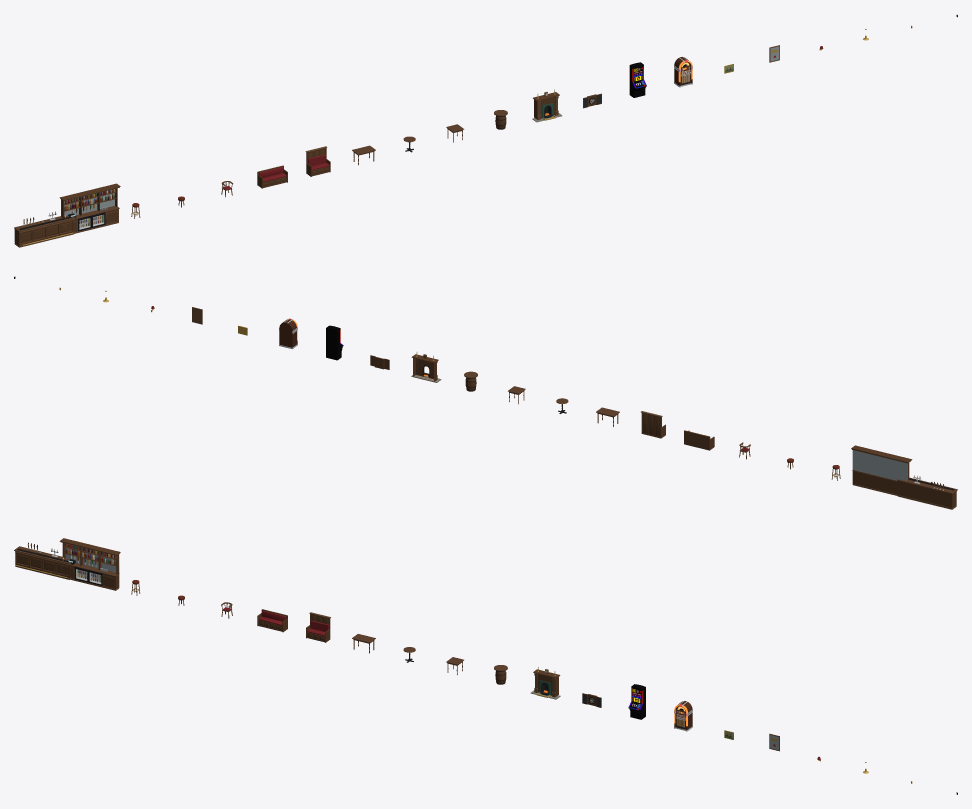
Rendered from Pub.glb.
3 views of the same model, one above another, from view 1: azimuth 30°, elevation 25°; view 2: azimuth 150°, elevation 25°; view 3: azimuth 330°, elevation 25° (orthographic).
Visible parts, largest first — view 1: BackBar, Bar, Fireplace, BoothBench, Settle, FruitMachine, Jukebox; view 2: BackBar, Bar, Fireplace, BoothBench, FruitMachine, Jukebox; view 3: BackBar, Bar, Fireplace, BoothBench.
Part boxes in pixels (left/top/right/bottom): BackBar: left=59, top=183, right=120, bottom=233; Bar: left=14, top=211, right=74, bottom=247; Fireplace: left=532, top=89, right=562, bottom=122; BoothBench: left=305, top=146, right=330, bottom=176; Settle: left=257, top=165, right=287, bottom=188; FruitMachine: left=629, top=62, right=646, bottom=97; Jukebox: left=674, top=56, right=692, bottom=87; BackBar: left=851, top=445, right=912, bottom=495; Bar: left=897, top=475, right=957, bottom=509; Fireplace: left=411, top=352, right=441, bottom=382; BoothBench: left=641, top=411, right=665, bottom=438; FruitMachine: left=326, top=325, right=343, bottom=360; Jukebox: left=279, top=318, right=297, bottom=349; BackBar: left=59, top=538, right=120, bottom=590; Bar: left=14, top=542, right=70, bottom=579; Fireplace: left=530, top=666, right=560, bottom=699; BoothBench: left=306, top=612, right=330, bottom=642.
Size of the model in its own units: 309 by 11.68 by 4.45.
